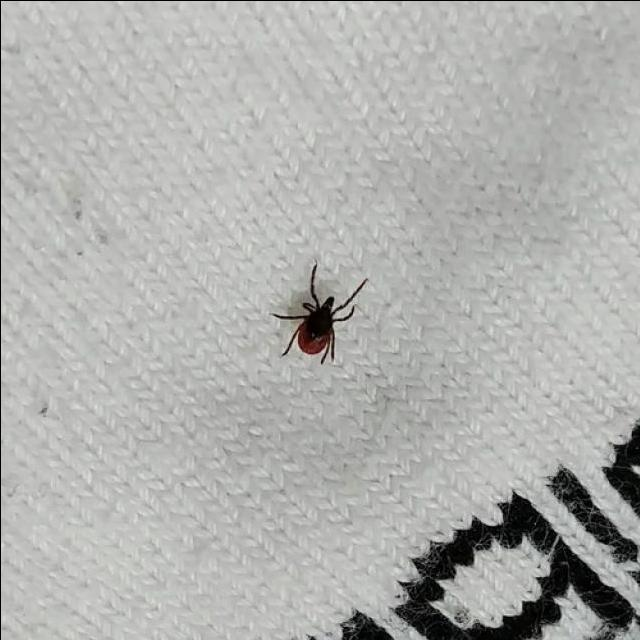Ixodes Ricinus-F: (276, 259, 369, 364)
